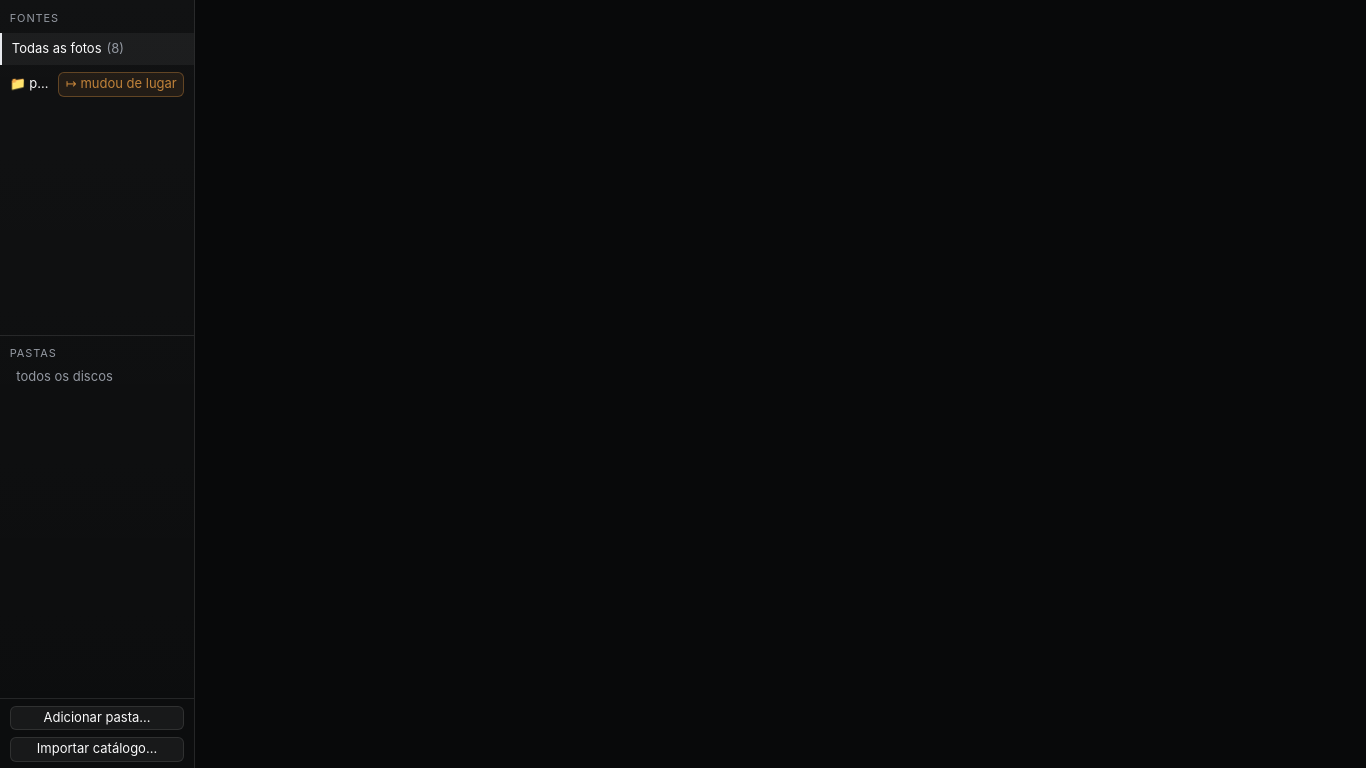
Scenario: Sidebar — reapontar fonte que mudou de lugar › fonte cujo volume remontou mostra o botão, com prévia antes de confirmar
What coordinates should you click on to do the following:
click the button "↦ mudou de lugar"
I would click on:
 (121, 84)
Its box is [58, 72, 184, 97].
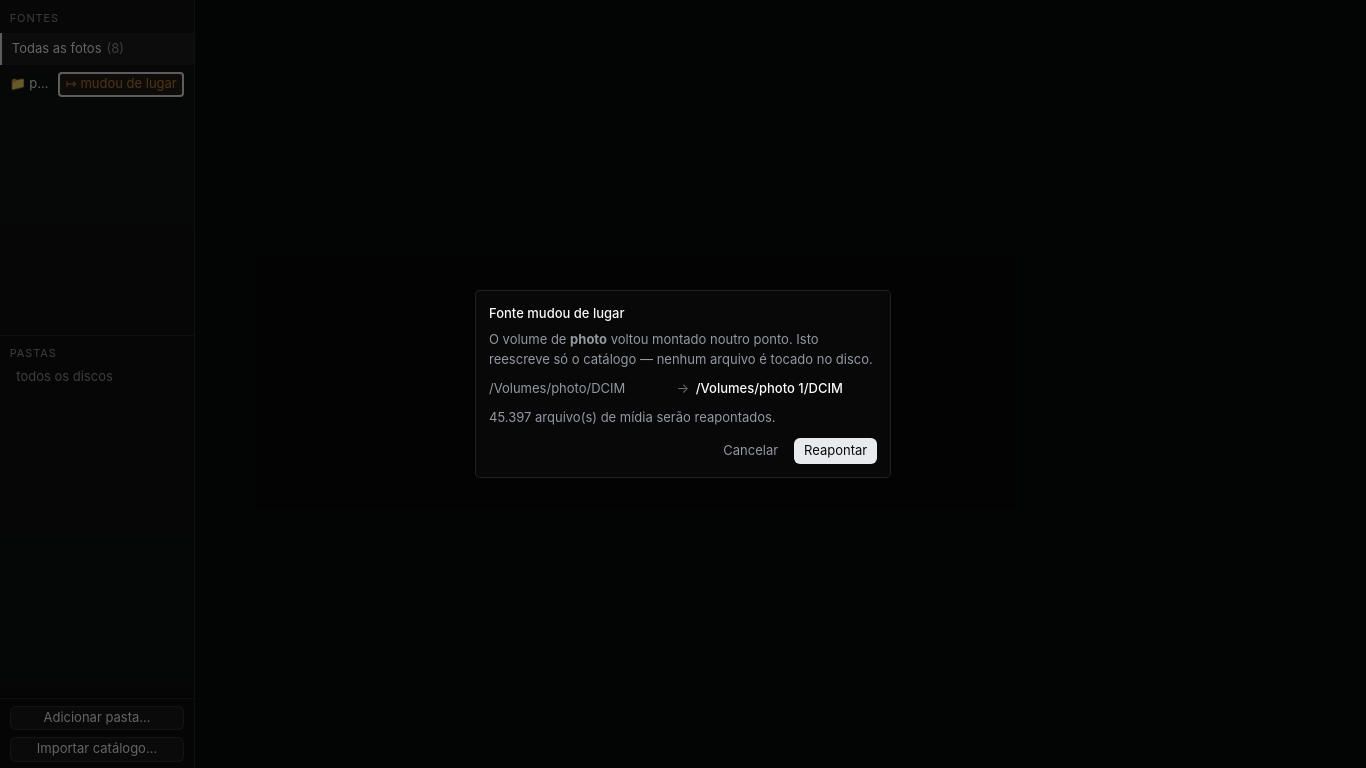
Expected: the text "45.397 arquivo(s) de mídia serão reapontados." is shown, [489, 409, 776, 425]
Expected: the text "/Volumes/photo/DCIM" is shown, [489, 380, 625, 396]
Expected: the text "/Volumes/photo 1/DCIM" is shown, [696, 380, 843, 396]
